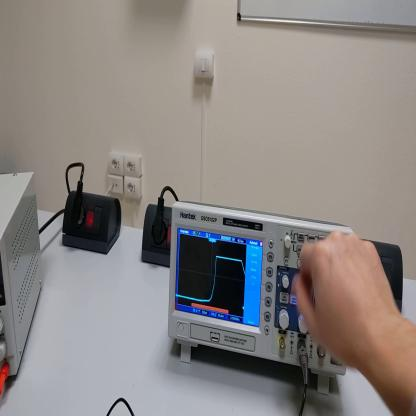hand: (297, 228, 398, 373)
oscilloscope: (168, 202, 352, 397)
power supply: (2, 174, 43, 378)
socket: (62, 193, 123, 256), (142, 203, 171, 269)
